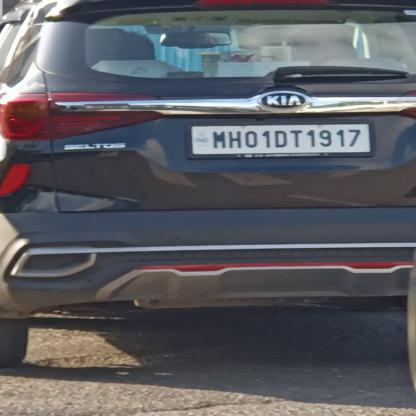license_plate: (189, 124, 370, 154)
